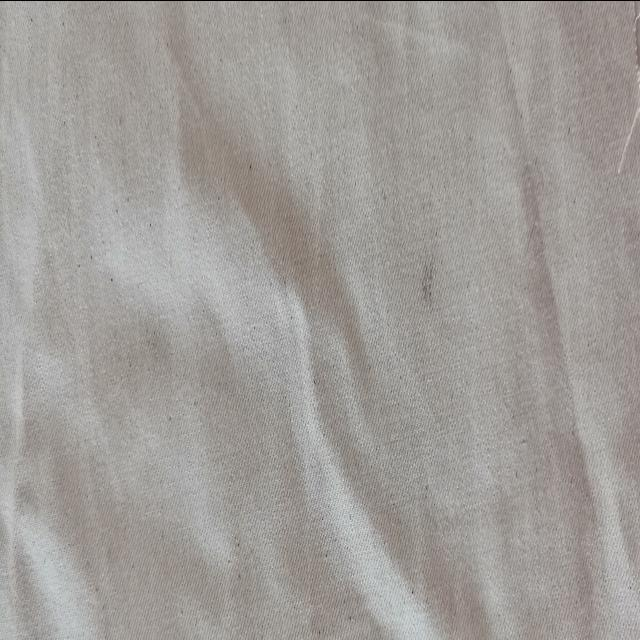taaaches: (402, 198, 458, 320)
